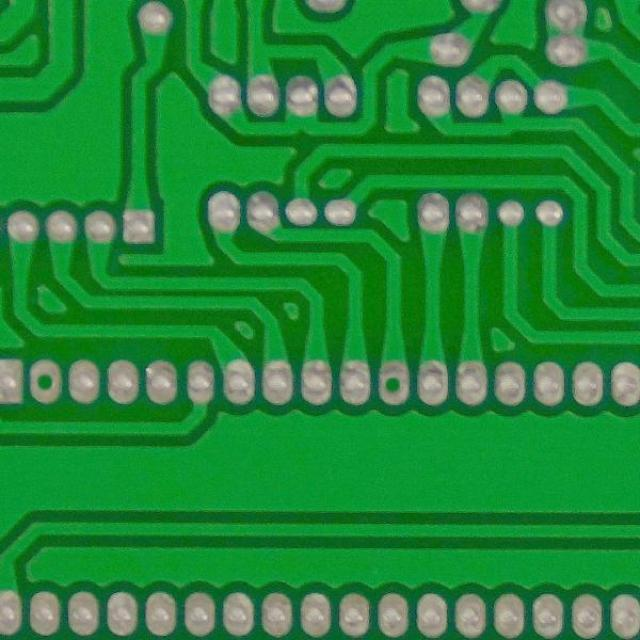Missing_Hole: (23, 356, 68, 404), (370, 361, 415, 406)
